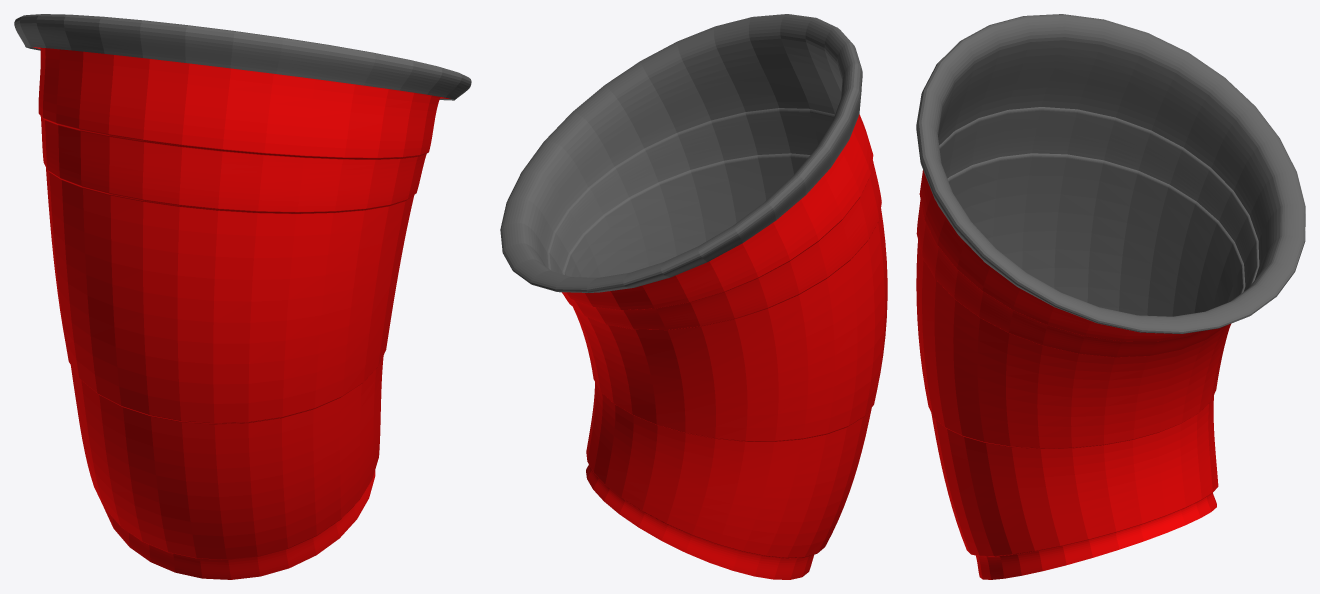
Rendered from bend_medium_1.obj.
The picture shows the model from 3 angles, left to right: view 1: azimuth 30°, elevation 25°; view 2: azimuth 150°, elevation 25°; view 3: azimuth 270°, elevation 25°; orthographic projection. The views are drawn at different scales.
Visible parts, largest first — view 1: model; view 2: model; view 3: model.
Part boxes in pixels (x1,y1,x2,y2): model: (14, 14, 471, 579); model: (500, 14, 887, 579); model: (916, 14, 1305, 579).
Bounding box in the file's own units: 0.0906 × 0.132 × 0.0906.
Materials: 1 (1 with a texture image).
